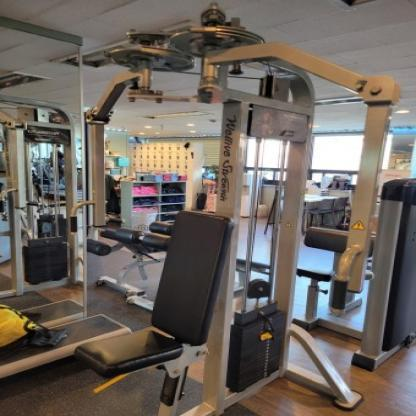chest fly machine: (20, 9, 415, 416)
